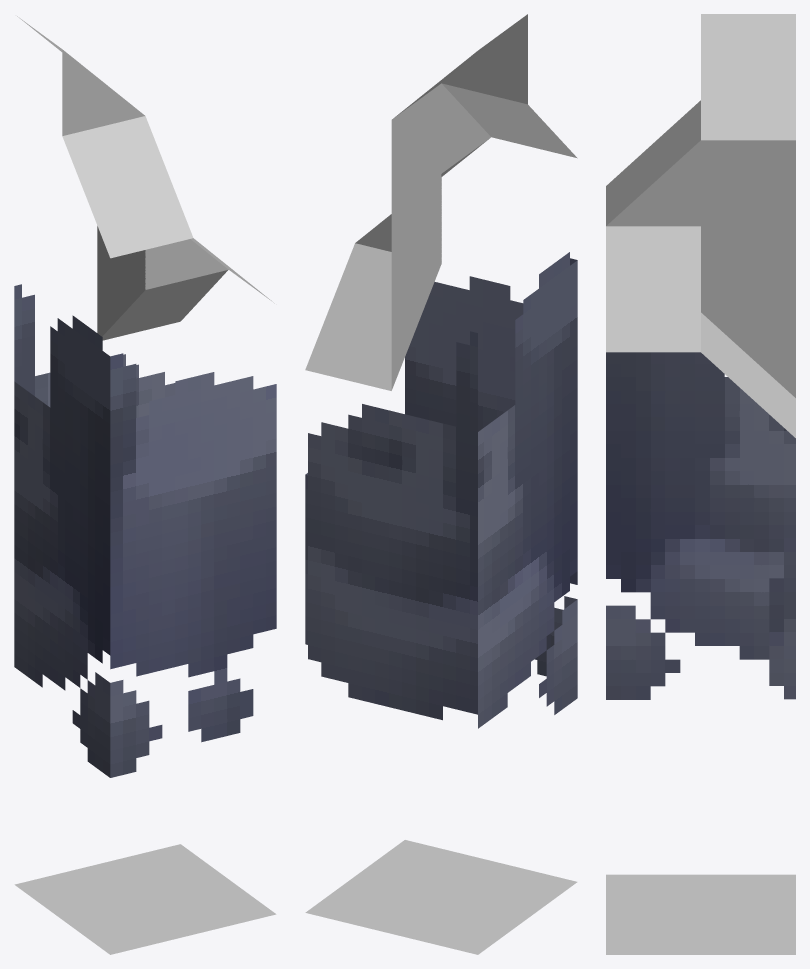
Rendered from column_damaged.dae.
3 views of the same model, side by side, from view 1: azimuth 30°, elevation 25°; view 2: azimuth 150°, elevation 25°; view 3: azimuth 270°, elevation 25° (orthographic). The views are drawn at different scales.
Parts seen in each view (by area): view 1: column_damaged; view 2: column_damaged; view 3: column_damaged.
Part boxes in pixels (<box>): column_damaged: <box>14,16,276,954</box>; column_damaged: <box>305,14,577,954</box>; column_damaged: <box>606,14,795,954</box>.
Bounding box in the file's own units: 0.2 × 1 × 0.2.
